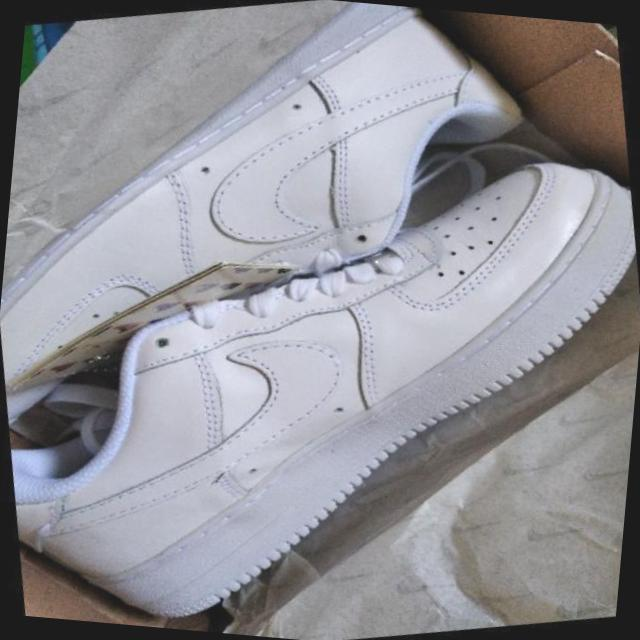nike_fake_airforce: (0, 102, 640, 640), (0, 0, 583, 447)
